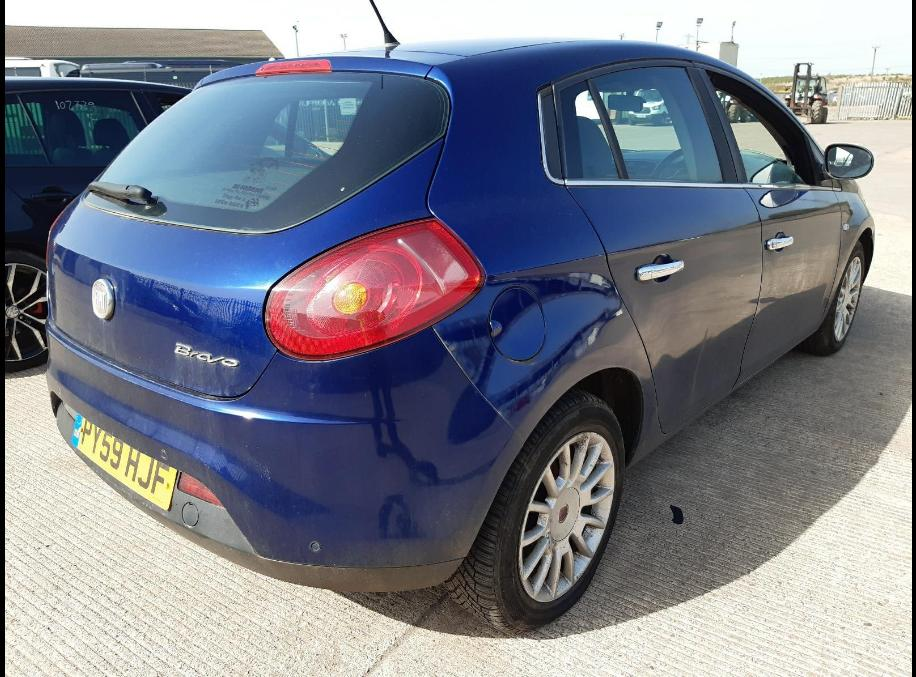Back-bumper: (46, 270, 524, 593)
Back-door: (552, 59, 763, 434)
Back-wheel: (442, 387, 625, 633)
Back-window: (593, 66, 723, 182), (561, 81, 619, 178)
Back-windshield: (86, 71, 448, 232)
Fender: (816, 179, 875, 330)
Front-door: (693, 61, 842, 388)
Front-wheel: (796, 240, 865, 355)
Front-window: (705, 69, 821, 187)
Headlight: (855, 181, 870, 211)
License-plate: (71, 412, 178, 511)
Mirror: (807, 137, 874, 187)
Quarter-panel: (429, 179, 661, 471)
Rocker-panel: (658, 329, 817, 448)
Roof: (311, 37, 620, 56)
Tail-light: (264, 216, 486, 361), (46, 200, 73, 268)
Trunk: (48, 51, 468, 397)
